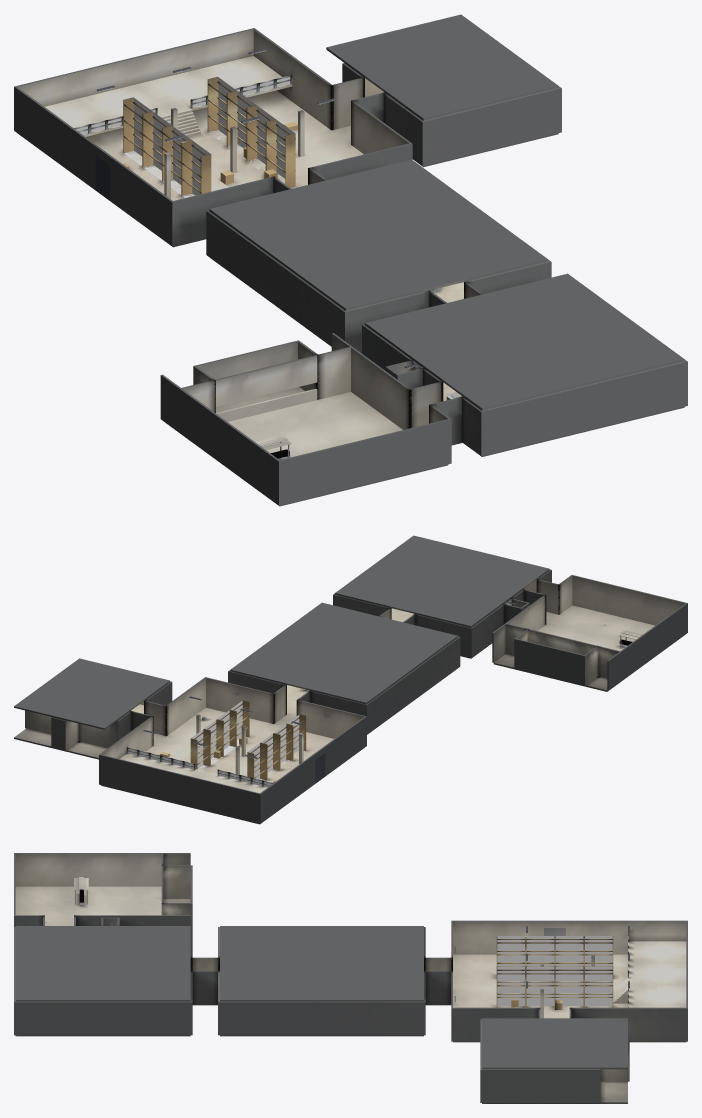
The model's file is hypermarche_complet.glb.
3 views of the same model, one above another, from view 1: azimuth 30°, elevation 25°; view 2: azimuth 150°, elevation 25°; view 3: azimuth 270°, elevation 25° (orthographic). The views are drawn at different scales.
Visible parts, largest first — view 1: vitrine_high, kit_wall_4m.028, kit_wall_4m.095, kit_wall_4m.002, kit_wall_4m.094, kit_wall_4m.003, kit_wall_4m.025, kit_wall_4m.017, kit_wall_4m.001, kit_wall_4m.093, kit_wall_4m, kit_wall_4m.004 (+65 smaller); view 2: vitrine_high, kit_wall_4m.072, kit_wall_4m.002, kit_wall_4m.020, kit_wall_4m.075, kit_wall_4m.070, kit_wall_4m.019, kit_wall_4m.074, kit_wall_4m.076, kit_wall_4m.001, kit_wall_4m.071, kit_wall_4m (+17 smaller); view 3: col_box_rack_4m.007, kit_wall_4m.038, kit_wall_4m.060, col_box_rack_4m.006, kit_wall_4m.088, kit_wall_4m.037, kit_wall_4m.039, kit_wall_4m.040, kit_wall_4m.042, kit_wall_4m.058, kit_wall_4m.059, kit_wall_4m.061 (+54 smaller).
Part boxes in pixels (x1,y1,x2,y2): vitrine_high: [215, 355, 317, 406]; kit_wall_4m.028: [482, 402, 517, 455]; kit_wall_4m.095: [424, 112, 458, 165]; kit_wall_4m.002: [347, 435, 382, 488]; kit_wall_4m.094: [458, 104, 492, 157]; kit_wall_4m.003: [314, 444, 348, 496]; kit_wall_4m.025: [584, 378, 618, 430]; kit_wall_4m.017: [316, 347, 350, 399]; kit_wall_4m.001: [381, 427, 415, 480]; kit_wall_4m.093: [491, 96, 525, 149]; kit_wall_4m: [415, 419, 449, 471]; kit_wall_4m.004: [280, 452, 314, 504]; vitrine_high: [528, 629, 597, 655]; kit_wall_4m.072: [213, 782, 236, 817]; kit_wall_4m.002: [617, 586, 640, 621]; kit_wall_4m.020: [515, 638, 538, 674]; kit_wall_4m.075: [145, 765, 168, 801]; kit_wall_4m.070: [251, 688, 274, 723]; kit_wall_4m.019: [538, 644, 561, 679]; kit_wall_4m.074: [168, 771, 191, 806]; kit_wall_4m.076: [123, 760, 145, 795]; kit_wall_4m.001: [595, 580, 618, 616]; kit_wall_4m.071: [236, 788, 259, 823]; kit_wall_4m: [572, 575, 595, 610]; col_box_rack_4m.007: [585, 966, 612, 1006]; kit_wall_4m.038: [132, 1001, 161, 1035]; kit_wall_4m.060: [336, 1001, 365, 1035]; col_box_rack_4m.006: [555, 966, 583, 1006]; kit_wall_4m.088: [657, 1007, 686, 1041]; kit_wall_4m.037: [161, 1001, 190, 1035]; kit_wall_4m.039: [103, 1001, 132, 1035]; kit_wall_4m.040: [74, 1001, 103, 1035]; kit_wall_4m.042: [15, 1001, 44, 1035]; kit_wall_4m.058: [394, 1001, 423, 1035]; kit_wall_4m.059: [365, 1001, 394, 1035]; kit_wall_4m.061: [307, 1001, 336, 1035].
Bounding box in the file's own units: 70.5 × 6.9 × 92.5.
